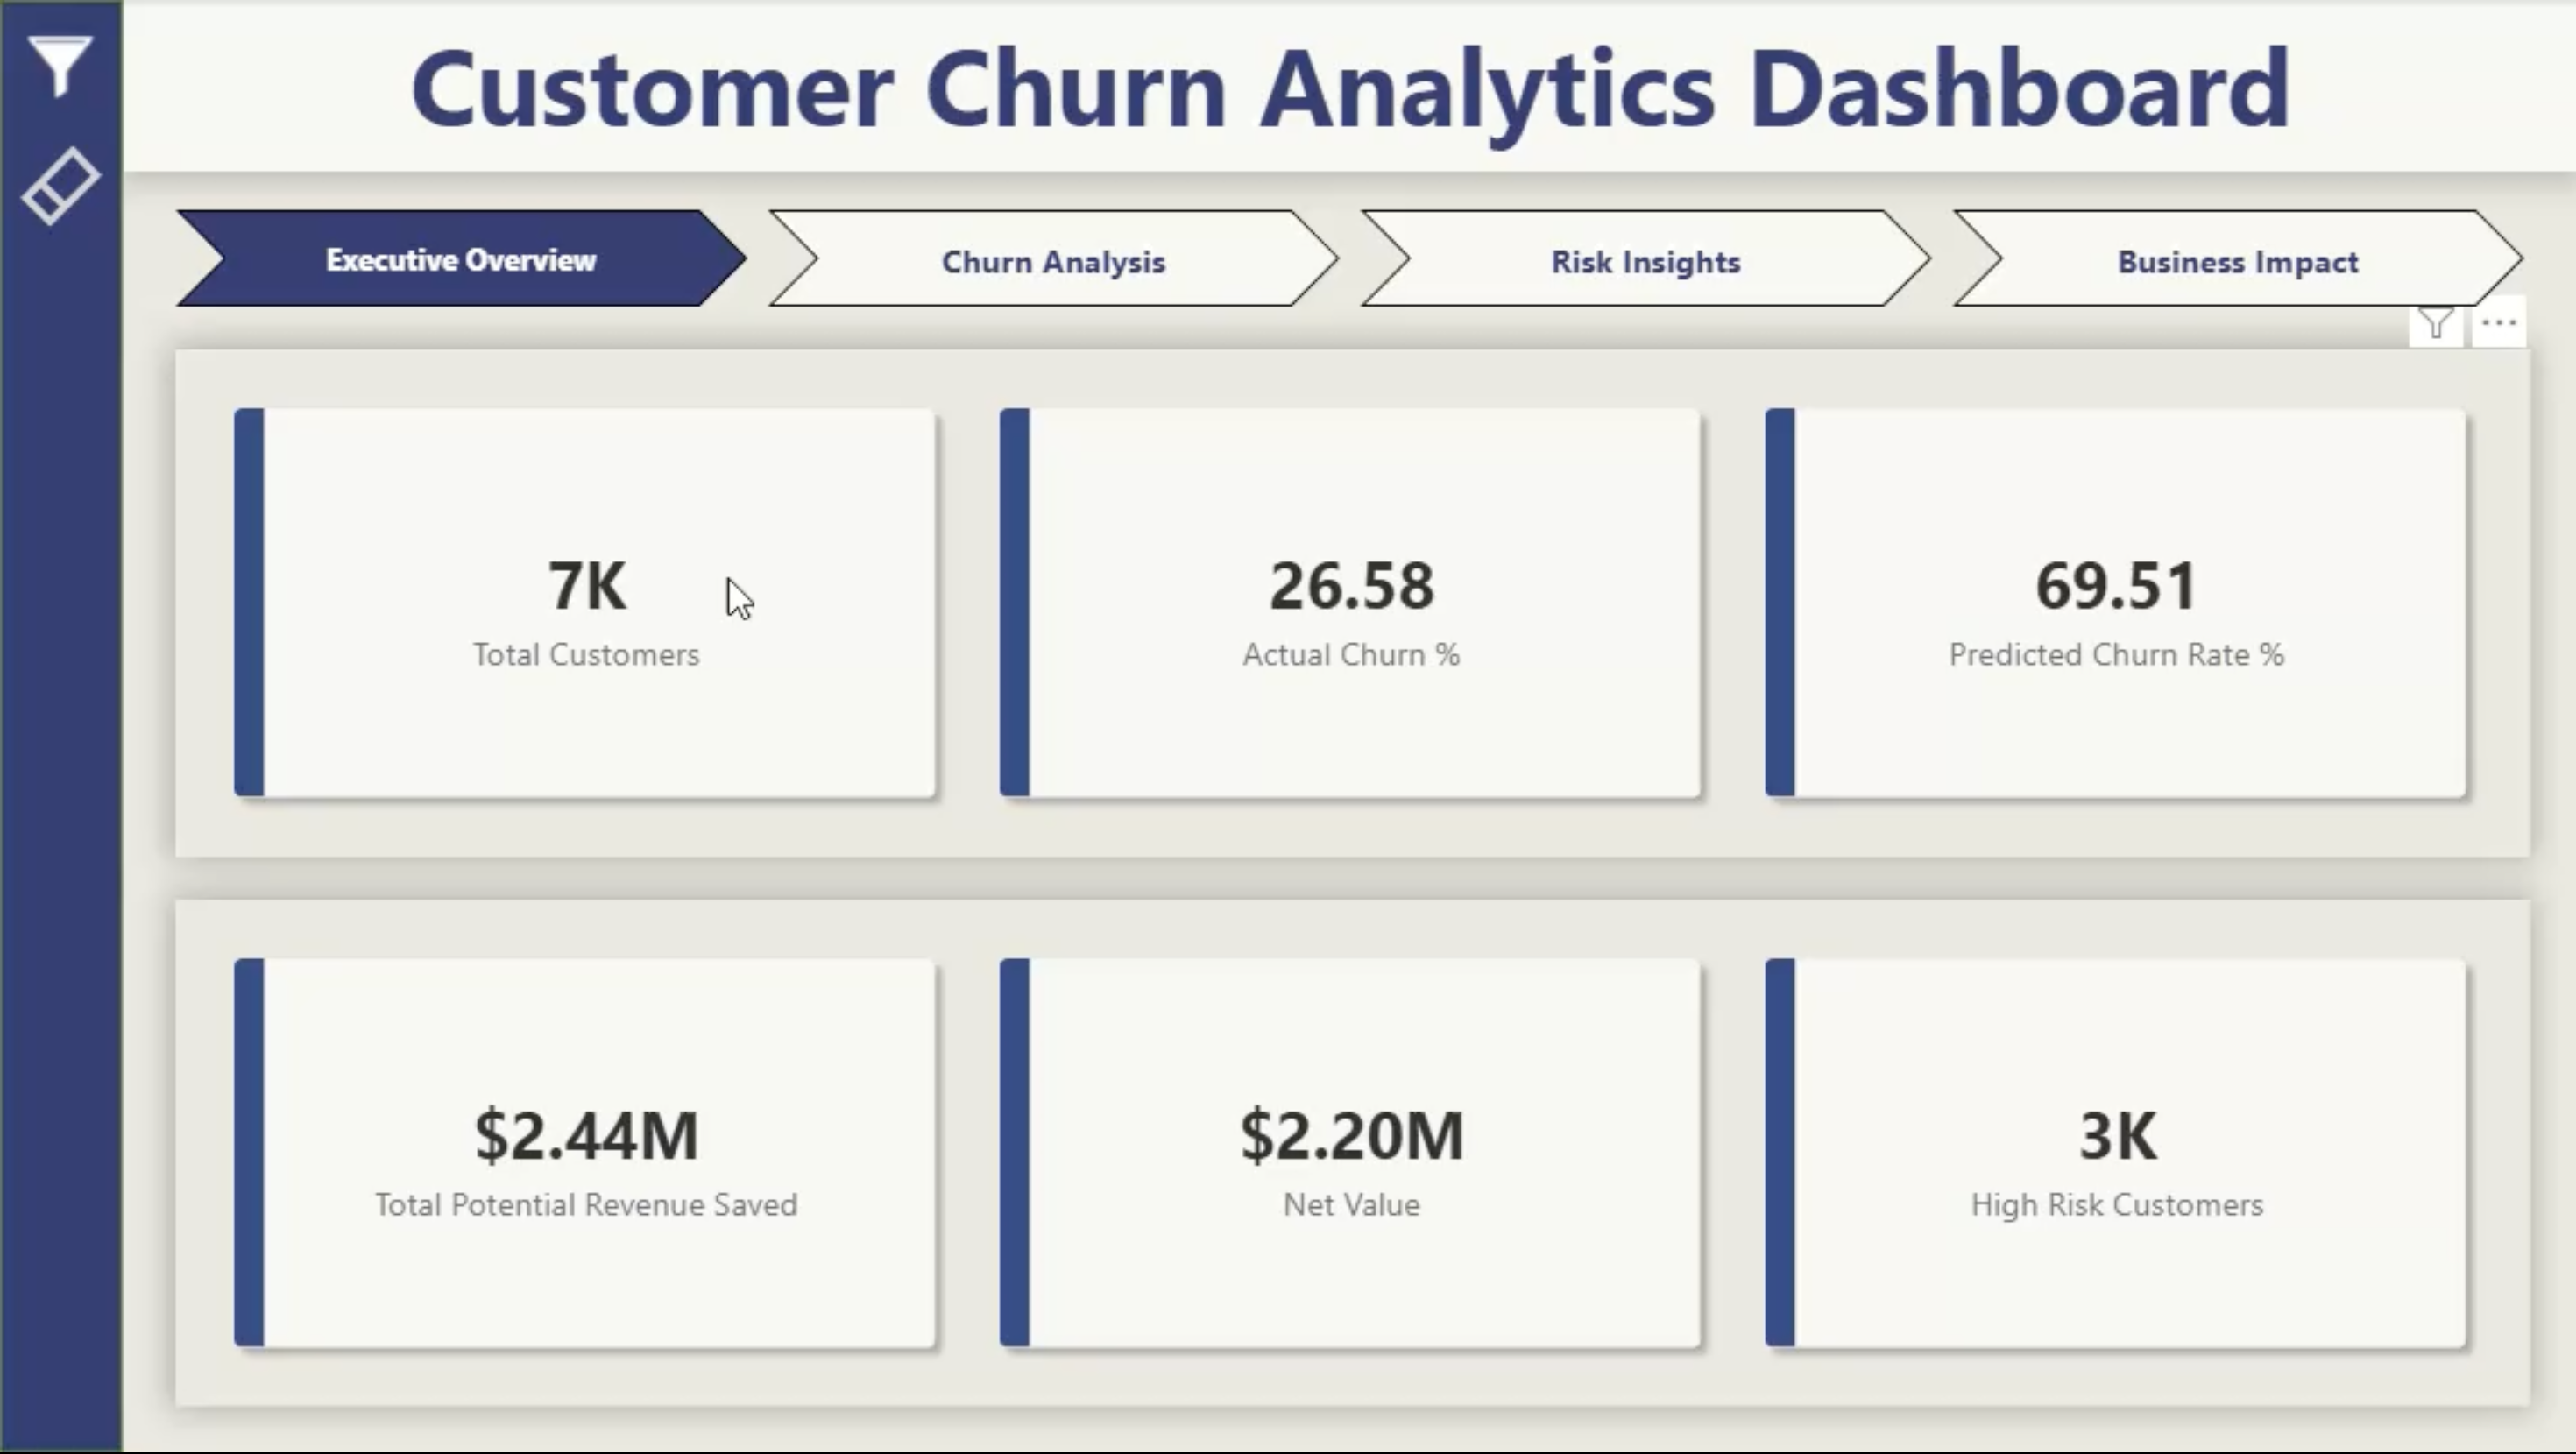

The dashboard page shown, as its layout file describes it:
{"tool":"powerbi","page":{"name":"Executive Overview","canvas":[1280,720],"ordinal":0},"visuals":[{"type":"cardVisual","fields":{"Data":["Measure_Table.Total Customers","Measure_Table.Actual Churn %","Measure_Table.Predicted Churn Rate %"]},"box":[86.7,173.3,1168.6,251.3],"z":0},{"type":"cardVisual","fields":{"Data":["Measure_Table.Total Potential Revenue Saved","Measure_Table.Net Value","Measure_Table.High Risk Customers"]},"box":[86.7,445.6,1168.6,251.3],"z":1000},{"type":"textbox","box":[61.2,0,1218.5,84.6],"z":2000},{"type":"shape","box":[0,0,60.9,720.1],"z":3000},{"type":"actionButton","title":"Clear Filters","box":[0,68.4,60.3,48.9],"z":4000},{"type":"actionButton","box":[0,0,60.3,63.5],"z":5000},{"type":"pageNavigator","box":[86.7,104,1168.6,48.3],"z":5500}]}

Visuals, with their boxes on the page's 1280x720 design canvas (x1, y1, x2, y2). These are canvas units, not pixel positions in the 2576x1454 screenshot, which may show the page scaled, cropped or inside an application window:
cardVisual - Measure_Table.Total Customers x Measure_Table.Actual Churn %: 87,173,1255,425
cardVisual - Measure_Table.Total Potential Revenue Saved x Measure_Table.Net Value: 87,446,1255,697
textbox: 61,0,1280,85
shape: 0,0,61,720
"Clear Filters" actionButton: 0,68,60,117
actionButton: 0,0,60,64
pageNavigator: 87,104,1255,152
